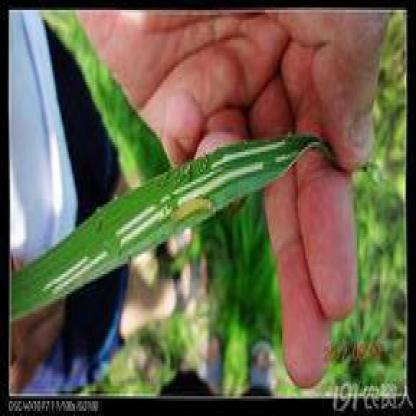leaf-folder: (167, 184, 218, 238)
